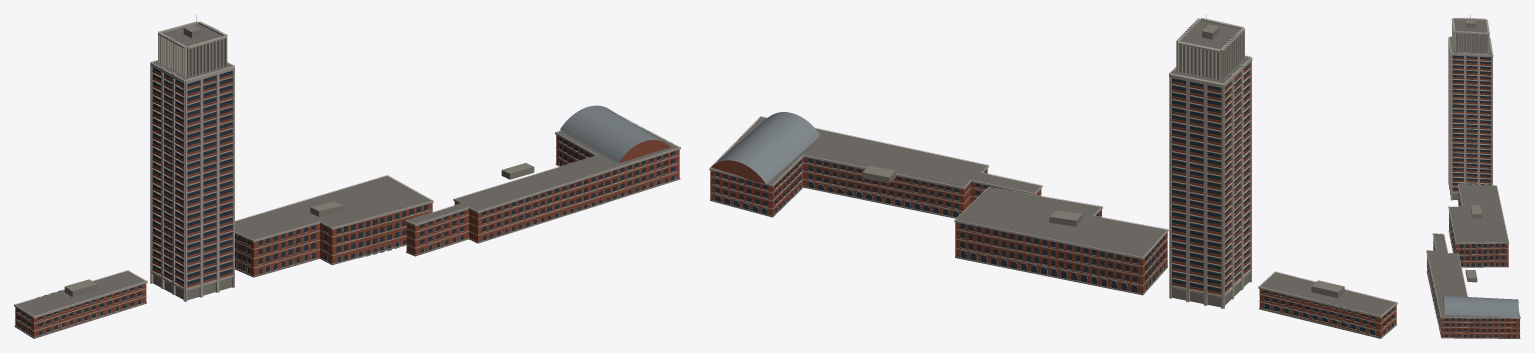
Rendered from hyde_park_barracks.glb.
3 renders of one model, left to right at view 1: azimuth 30°, elevation 25°; view 2: azimuth 150°, elevation 25°; view 3: azimuth 270°, elevation 25°, orthographic. The views are drawn at different scales.
Size of the model in its own units: 250 by 102 by 48.06.
